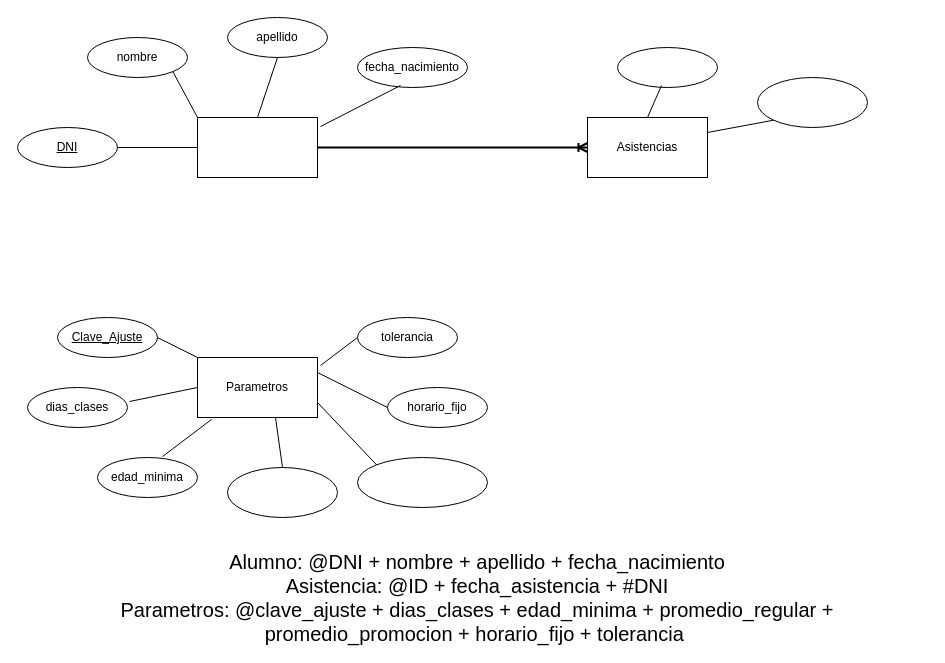
The diagram is 945 pixels wide and 663 high, and some of its shapes have lost their labels. The centre of each missing label's shape, as x and y in pixels:
Alumno: the point at 257,147
fecha_asistencia: the point at 812,102
ID: the point at 667,67
promedio_promocion: the point at 422,482
promedio_regular: the point at 282,492
